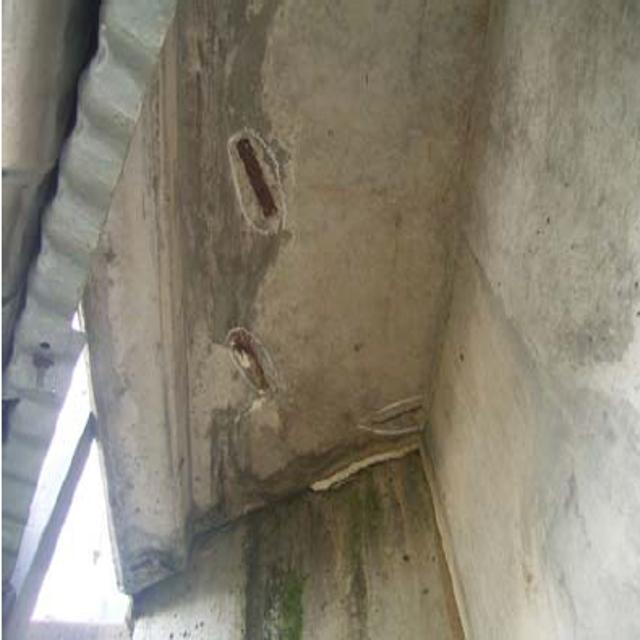spalling: (224, 118, 304, 252), (223, 311, 280, 410)
